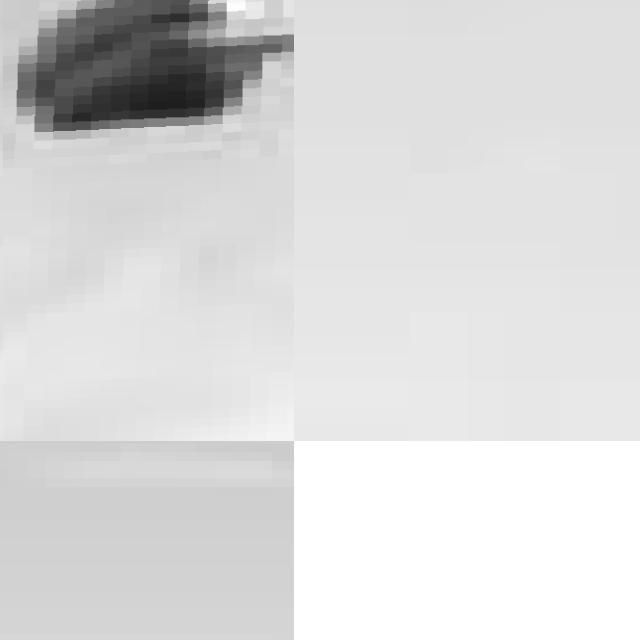street light: (3, 0, 294, 441), (294, 441, 640, 640)
